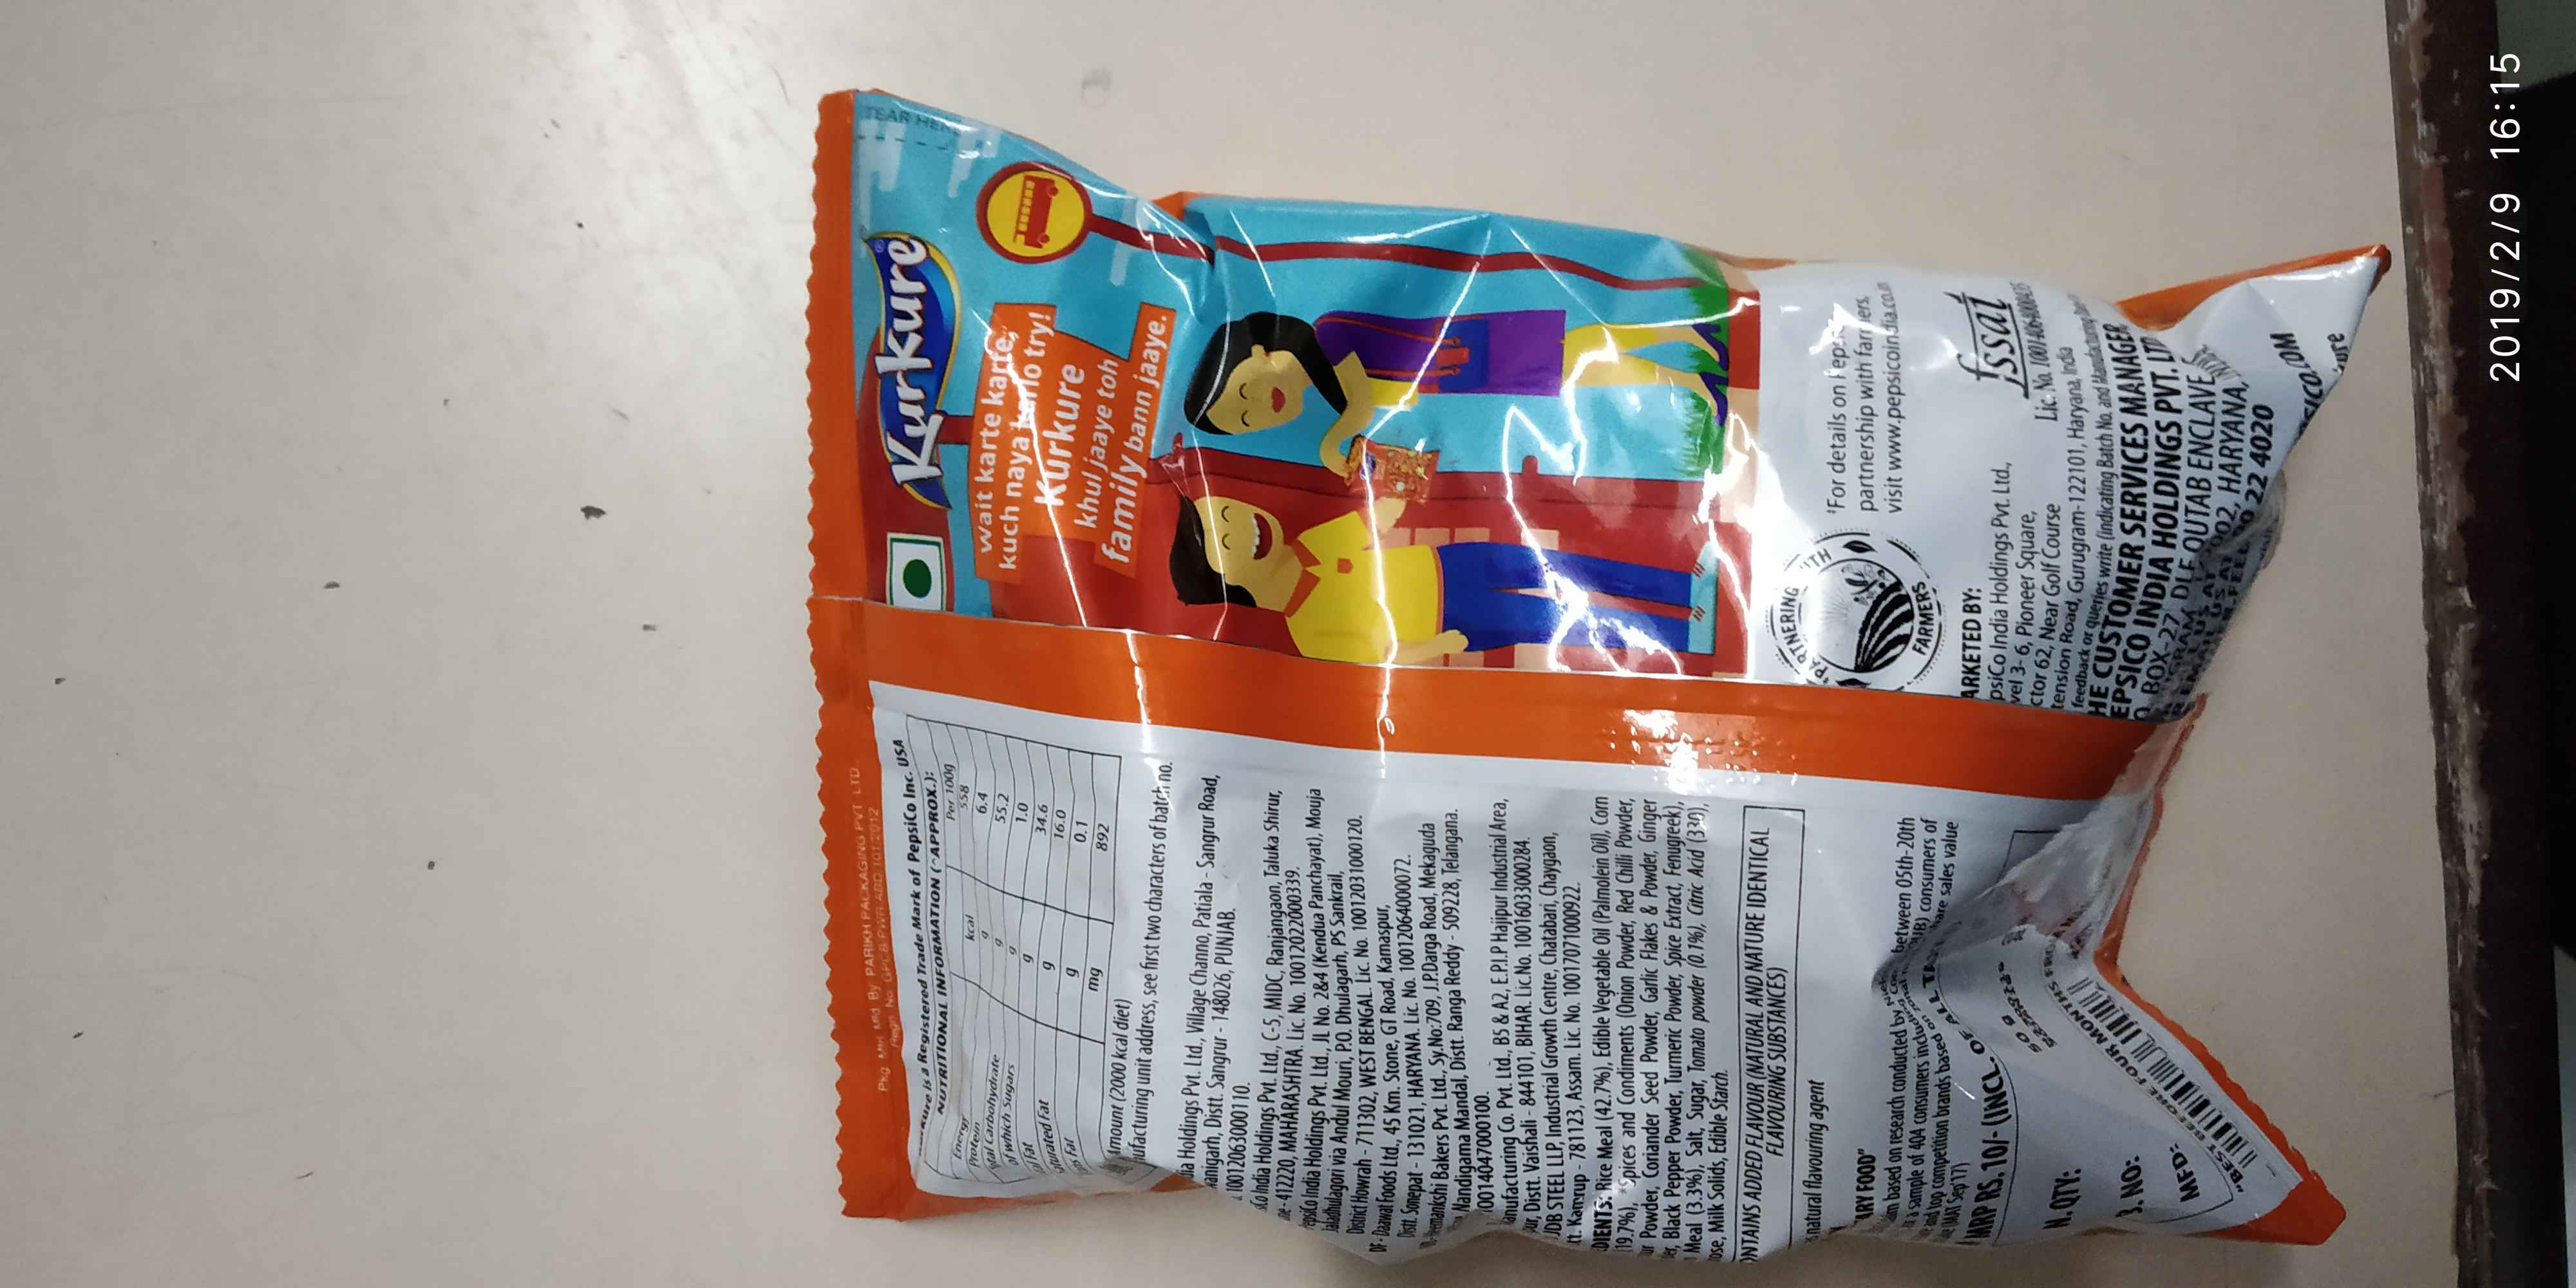kurkure: (862, 194, 984, 524)
